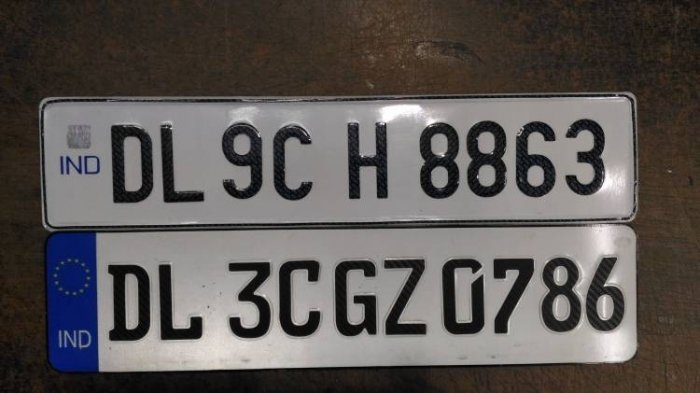numberplate: (45, 226, 640, 375), (37, 89, 640, 226)
